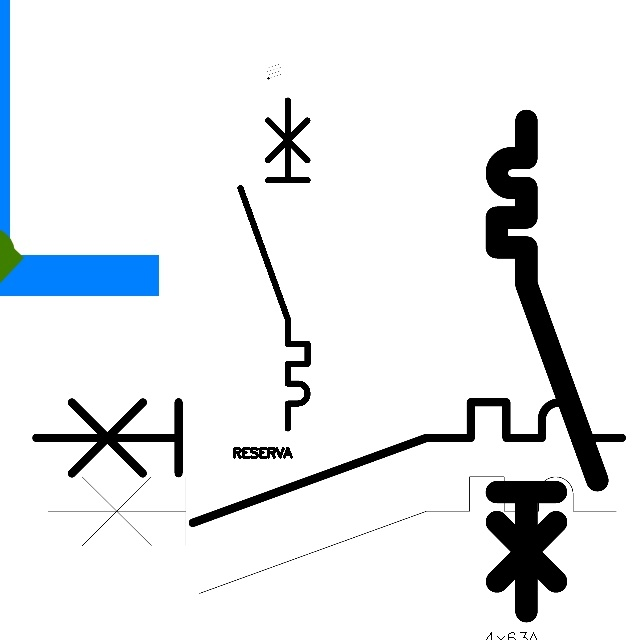interruptor_termomagnetico: (21, 387, 637, 537), (33, 462, 631, 608), (484, 108, 610, 623), (232, 92, 316, 437)
